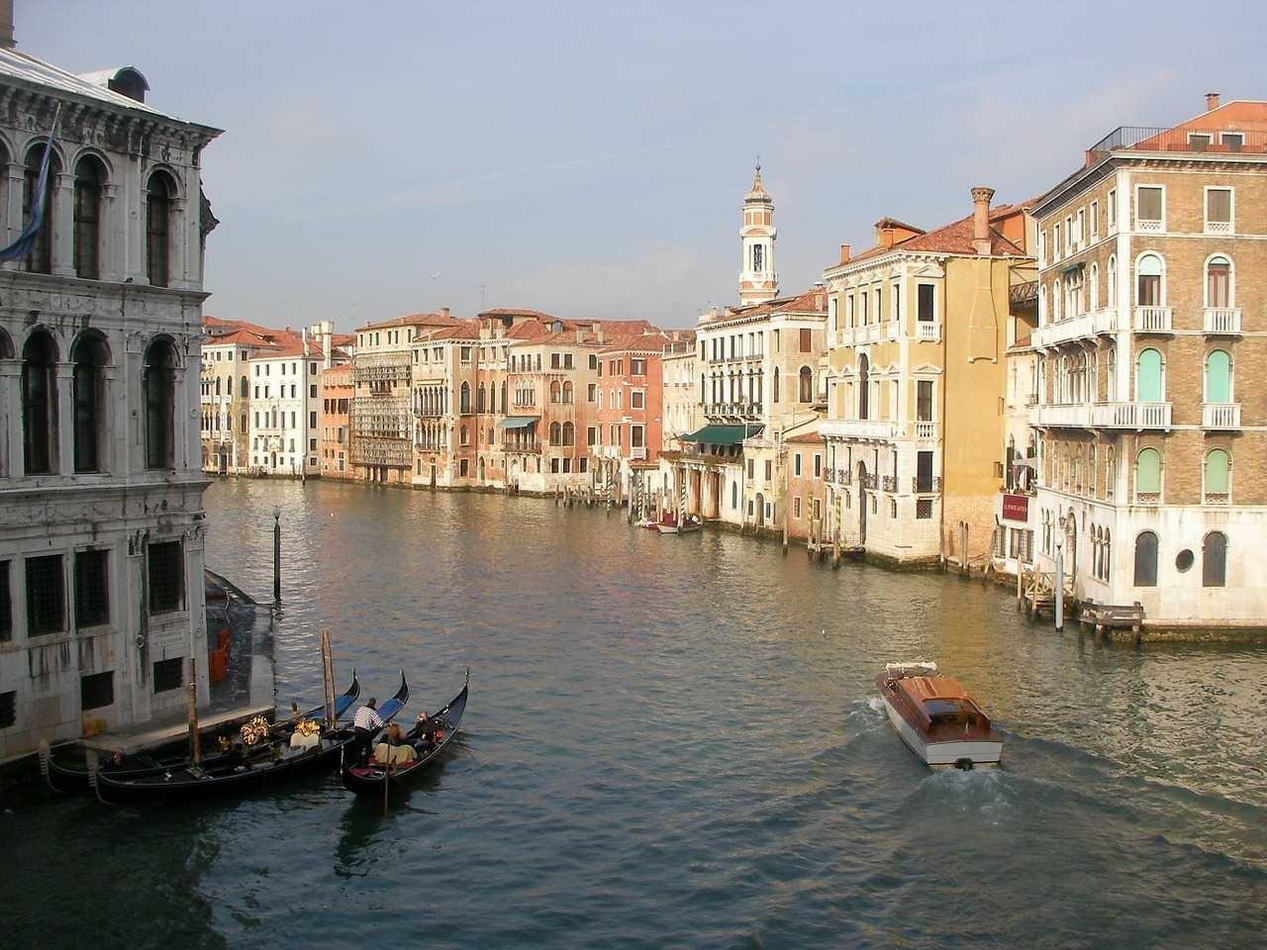kayak: (93, 651, 411, 805), (342, 669, 469, 806), (873, 660, 1004, 771), (46, 736, 170, 793), (654, 514, 702, 534)
